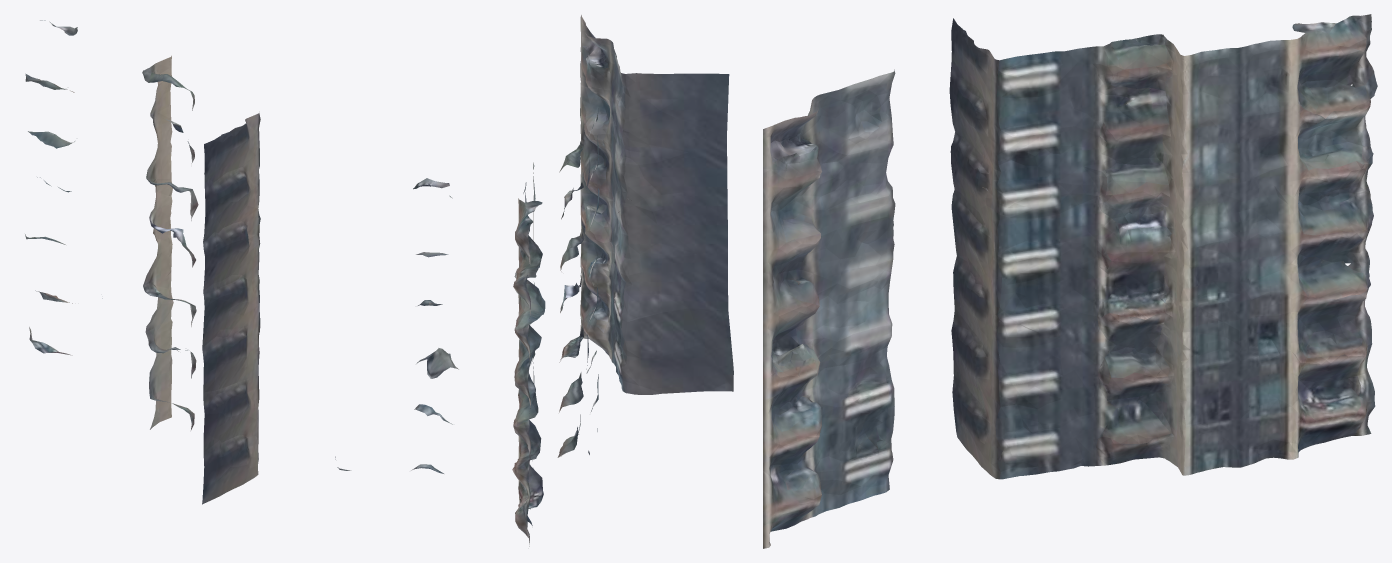
File: Tile_+012_+008_L21_0000035400.glb
3 renders of one model, left to right at view 1: azimuth 30°, elevation 25°; view 2: azimuth 150°, elevation 25°; view 3: azimuth 270°, elevation 25°, orthographic. The views are drawn at different scales.
Parts seen in each view (by area): view 1: rtc; view 2: rtc; view 3: rtc.
Part boxes in pixels (box(x1,y1,x2,y2)): rtc: box(25, 20, 458, 504); rtc: box(512, 15, 733, 546); rtc: box(763, 14, 1377, 548).
Bounding box in the file's own units: 13.32 × 22.52 × 29.91.
1 material, 1 textured.
